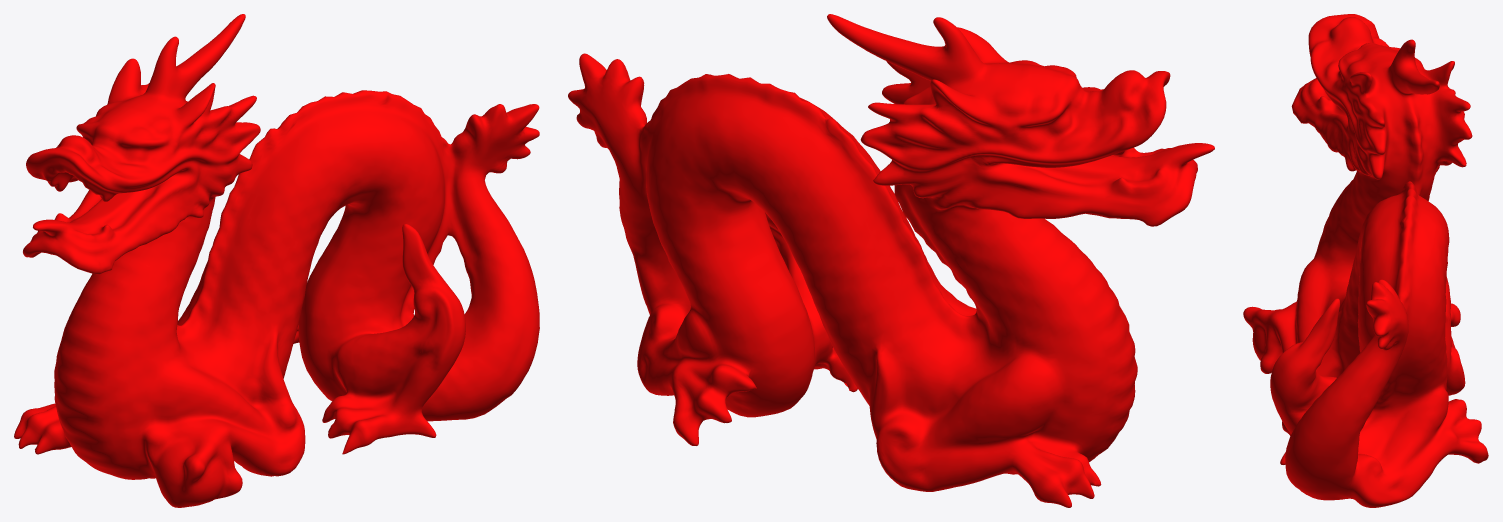
File: Dragon.obj
3 renders of one model, left to right at view 1: azimuth 30°, elevation 25°; view 2: azimuth 150°, elevation 25°; view 3: azimuth 270°, elevation 25°, orthographic. The views are drawn at different scales.
Visible parts, largest first — view 1: Stanford_Dragon; view 2: Stanford_Dragon; view 3: Stanford_Dragon.
Part boxes in pixels (<box>): Stanford_Dragon: <box>14,14,539,507</box>; Stanford_Dragon: <box>568,14,1214,507</box>; Stanford_Dragon: <box>1243,14,1488,507</box>.
Bounding box in the file's own units: 2.04 × 1.44 × 0.9133.
